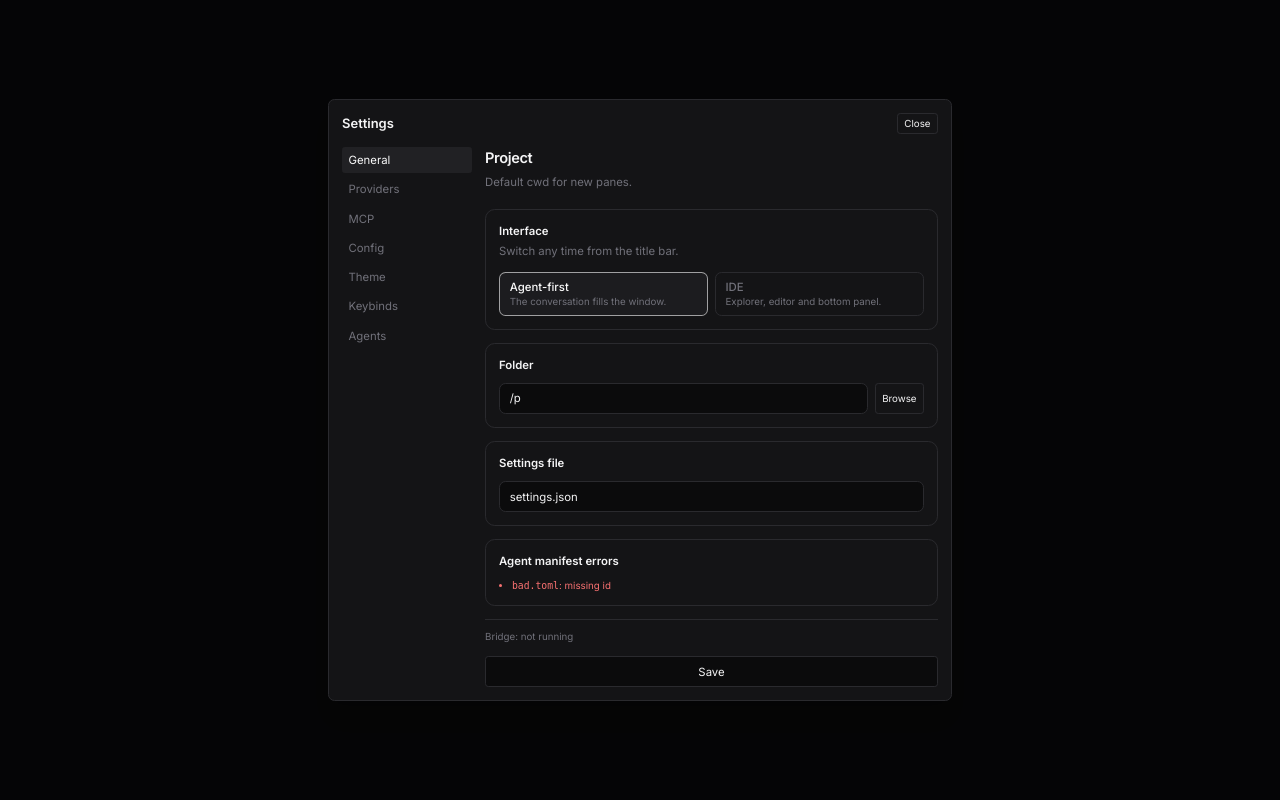
it: SettingsPanel sections › agents section lists agents and red load errors
What coordinates should you click on to do the following:
click the button "Agents"
I would click on:
 (407, 336)
Its box is [342,323,472,349].
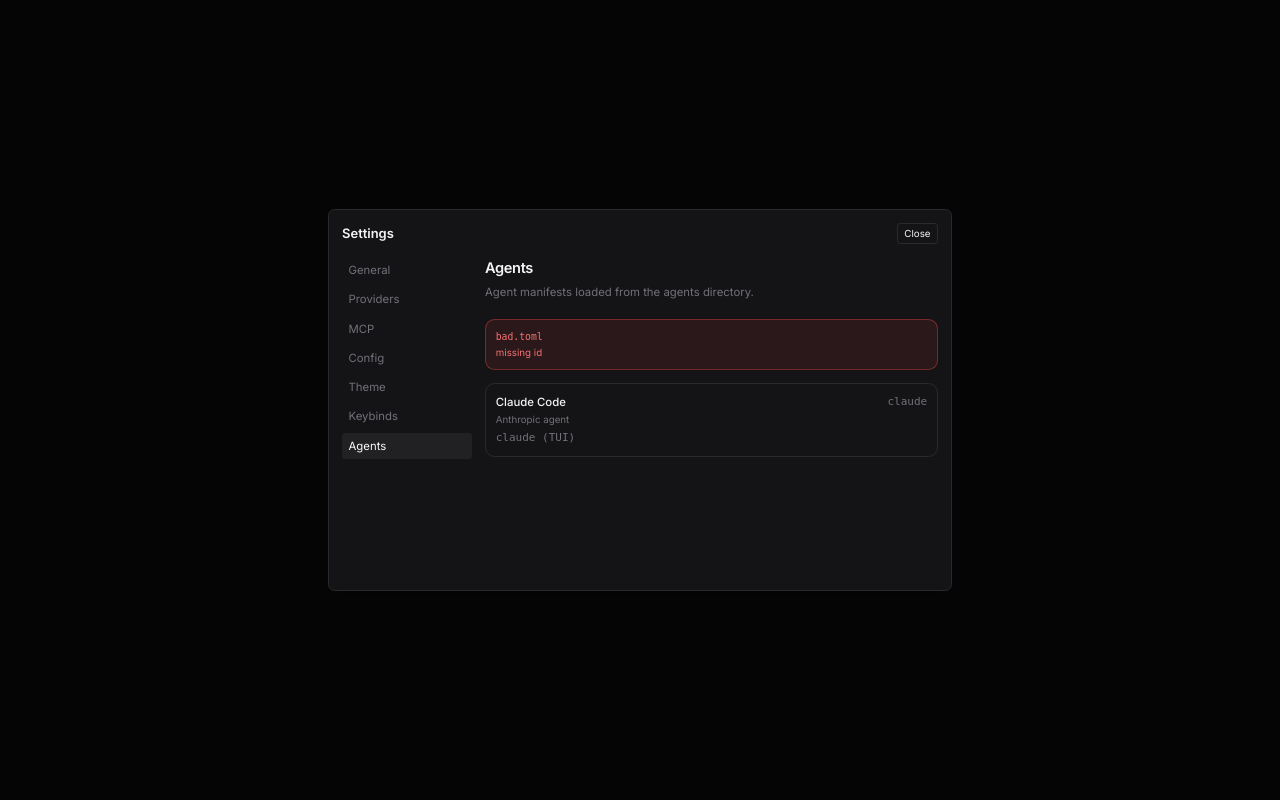
Check: the number of list items with test id "agents-row" is 1, box [485,383,938,457]
Check: the text "Claude Code" is shown, box [496,394,566,410]
Check: the list item with test id "agents-error-row" shows "bad.toml", box [496,331,543,342]
